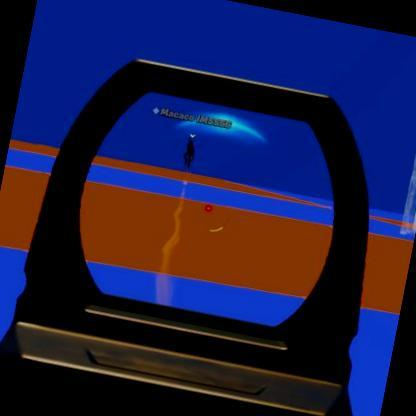person: (178, 135, 194, 167)
